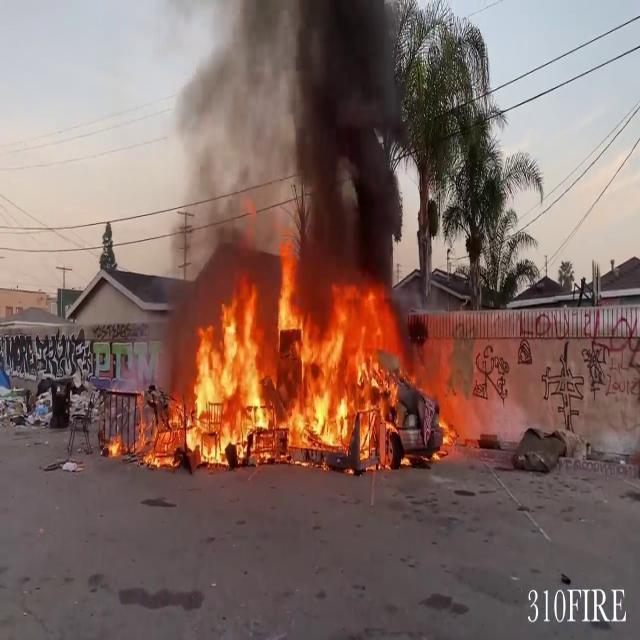Fire: (148, 264, 470, 472)
Smoke: (164, 0, 416, 271)
